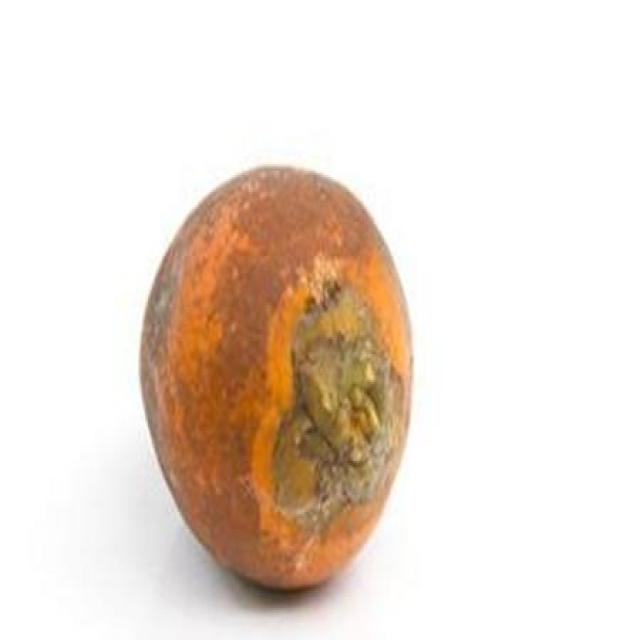good: (139, 166, 415, 593)
